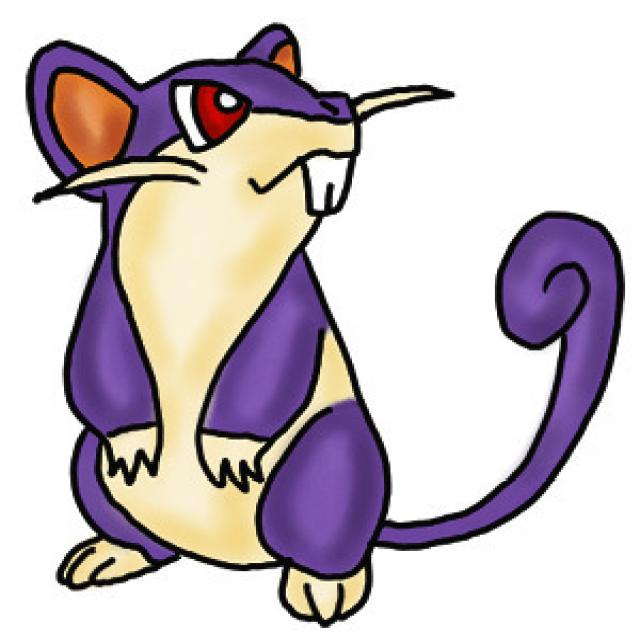Rattata: (14, 29, 427, 608)
